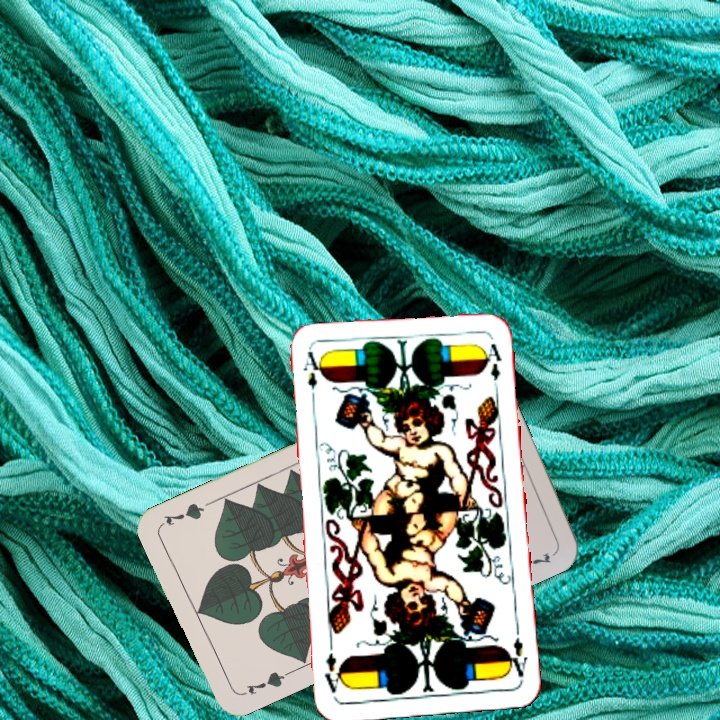EA: (503, 622, 531, 680), (299, 348, 320, 407)
G7: (242, 667, 292, 698)
